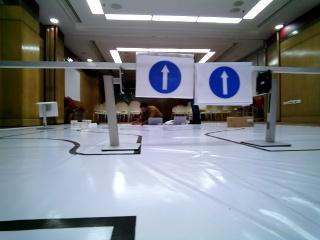straight: (194, 63, 252, 102), (136, 56, 192, 96)
